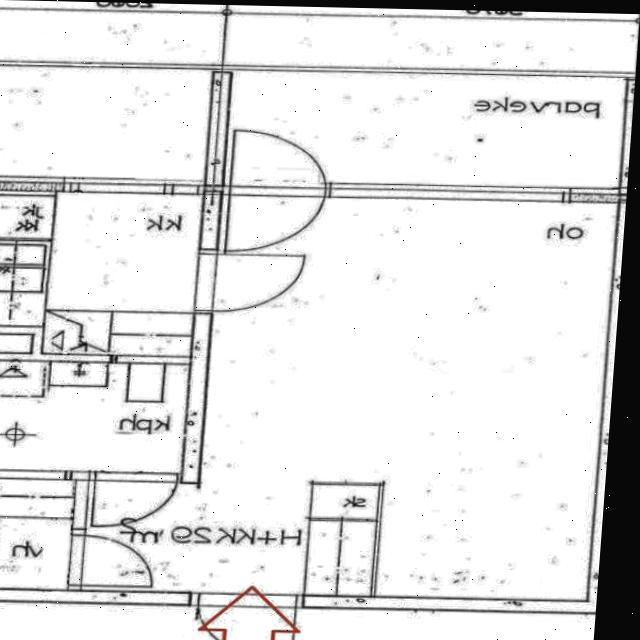room: (0, 191, 204, 358), (0, 361, 188, 473), (0, 479, 75, 590)
